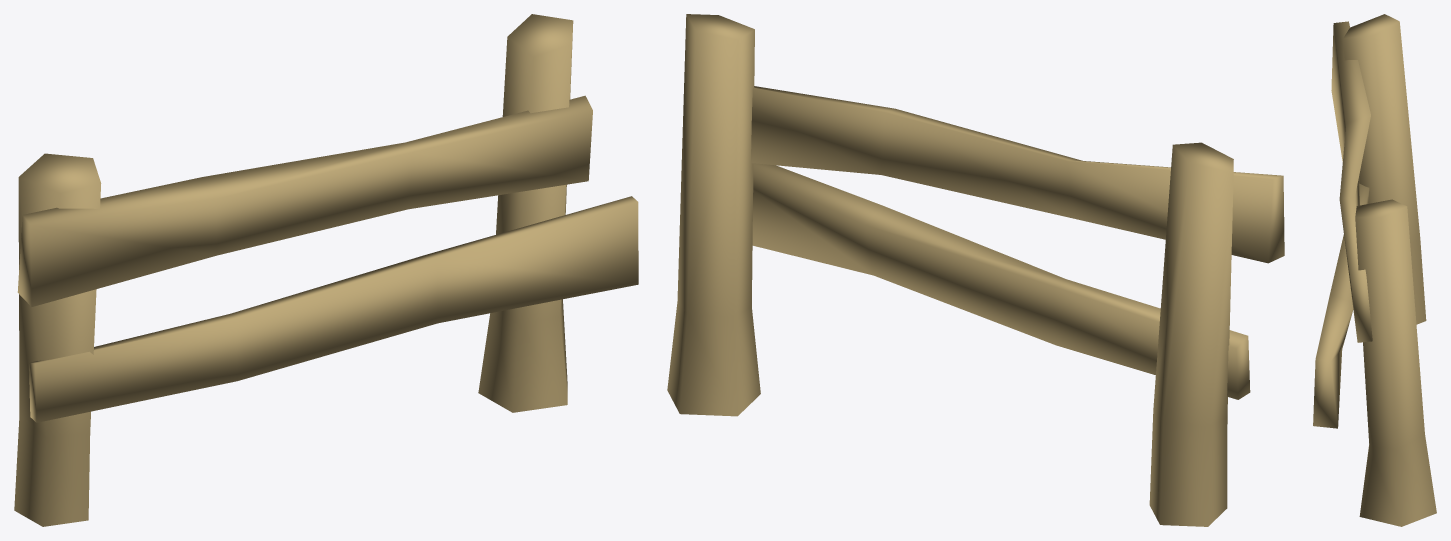
Rendered from fence B.fbx.
3 renders of one model, left to right at view 1: azimuth 30°, elevation 25°; view 2: azimuth 150°, elevation 25°; view 3: azimuth 270°, elevation 25°, orthographic. The views are drawn at different scales.
Parts seen in each view (by area): view 1: LowPolyFence_02; view 2: LowPolyFence_02; view 3: LowPolyFence_02.
Part boxes in pixels (x1,y1,x2,y2): LowPolyFence_02: (14,14,638,526); LowPolyFence_02: (667,14,1284,526); LowPolyFence_02: (1313,14,1436,526).
Size of the model in its own units: 259 by 154 by 56.09.
